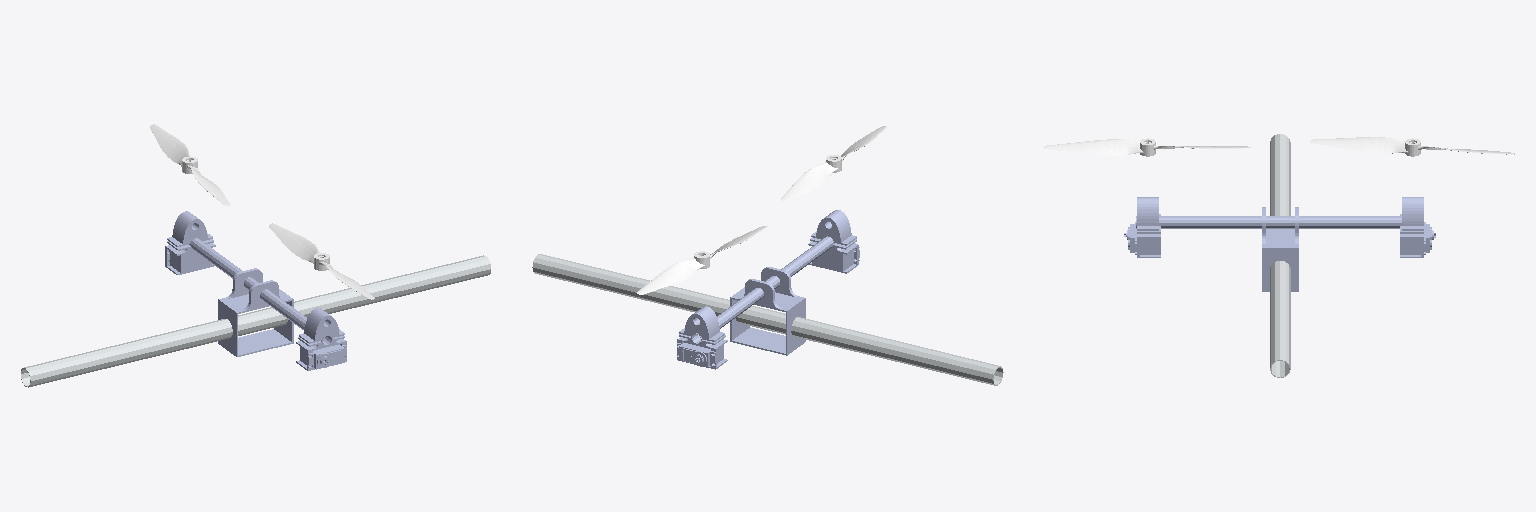
URDF robot description (link assem 1):
<?xml version="1.0" encoding="utf-8"?>
<!--
================================================================================
SOLIDWORKS CAD EXPORT REFERENCE (link assem 1.urdf)
================================================================================
Note: This file is the raw SolidWorks export reference from the CAD team.
The active URDF used by ROS 2, robot_state_publisher, and RViz2 is `bi_copter.urdf`.
================================================================================
-->
<!-- This URDF was automatically created by SolidWorks to URDF Exporter! Originally created by Stephen Brawner (brawner@gmail.com) 
     Commit Version: 1.6.0-1-g15f4949  Build Version: 1.6.7594.29634
     For more information, please see http://wiki.ros.org/sw_urdf_exporter -->
<robot
  name="link assem 1">
  <link
    name="base_link">
    <inertial>
      <origin
        xyz="-2.76532267727628E-16 0 3.51038494709688E-19"
        rpy="0 0 0" />
      <mass
        value="0.132323882569202" />
      <inertia
        ixx="1.90877200606074E-05"
        ixy="-1.24875867876986E-35"
        ixz="-1.91928080718625E-35"
        iyy="0.00466844722548764"
        iyz="-1.84140864182871E-37"
        izz="0.00466844722548764" />
    </inertial>
    <visual>
      <origin
        xyz="0 0 0"
        rpy="0 0 0" />
      <geometry>
        <mesh
          filename="package://link assem 1/meshes/base_link.STL" />
      </geometry>
      <material
        name="">
        <color
          rgba="0.898039215686275 0.917647058823529 0.929411764705882 1" />
      </material>
    </visual>
    <collision>
      <origin
        xyz="0 0 0"
        rpy="0 0 0" />
      <geometry>
        <mesh
          filename="package://link assem 1/meshes/base_link.STL" />
      </geometry>
    </collision>
  </link>
  <link
    name="L1">
    <inertial>
      <origin
        xyz="0.0187826477090622 0.0646496990402858 0.0655243998826831"
        rpy="0 0 0" />
      <mass
        value="0.177641248758178" />
      <inertia
        ixx="0.000214711885739995"
        ixy="2.49321510093631E-20"
        ixz="-1.2333489977151E-12"
        iyy="0.000218978934528565"
        iyz="-2.85669278486103E-10"
        izz="8.14312338807093E-05" />
    </inertial>
    <visual>
      <origin
        xyz="0 0 0"
        rpy="0 0 0" />
      <geometry>
        <mesh
          filename="package://link assem 1/meshes/L1.STL" />
      </geometry>
      <material
        name="">
        <color
          rgba="0.792156862745098 0.819607843137255 0.933333333333333 1" />
      </material>
    </visual>
    <collision>
      <origin
        xyz="0 0 0"
        rpy="0 0 0" />
      <geometry>
        <mesh
          filename="package://link assem 1/meshes/L1.STL" />
      </geometry>
    </collision>
  </link>
  <joint
    name="J1"
    type="continuous">
    <origin
      xyz="-0.0188267545319353 0.0657121173114694 -0.0323300324222666"
      rpy="1.5707963267949 0 0" />
    <parent
      link="base_link" />
    <child
      link="L1" />
    <axis
      xyz="0 0 1" />
  </joint>
  <link
    name="L2">
    <inertial>
      <origin
        xyz="0.000639451801211969 0.0419854704930056 0.0202856147814962"
        rpy="0 0 0" />
      <mass
        value="0.0756917660219552" />
      <inertia
        ixx="1.36003088872351E-05"
        ixy="-3.48905222525505E-07"
        ixz="-6.71026377493094E-07"
        iyy="1.61394826592292E-05"
        iyz="-1.5868331703718E-07"
        izz="1.35431982502197E-05" />
    </inertial>
    <visual>
      <origin
        xyz="0 0 0"
        rpy="0 0 0" />
      <geometry>
        <mesh
          filename="package://link assem 1/meshes/L2.STL" />
      </geometry>
      <material
        name="">
        <color
          rgba="0.752941176470588 0.752941176470588 0.752941176470588 1" />
      </material>
    </visual>
    <collision>
      <origin
        xyz="0 0 0"
        rpy="0 0 0" />
      <geometry>
        <mesh
          filename="package://link assem 1/meshes/L2.STL" />
      </geometry>
    </collision>
  </link>
  <joint
    name="J2"
    type="continuous">
    <origin
      xyz="0.0188409419721205 0.100330032422266 -0.0752878826885309"
      rpy="3.14159265358979 0 3.14159265358979" />
    <parent
      link="L1" />
    <child
      link="L2" />
    <axis
      xyz="0 0 1" />
  </joint>
  <link
    name="L4">
    <inertial>
      <origin
        xyz="-4.92945649577248E-09 0.00805127046574106 7.94391442487941E-07"
        rpy="0 0 0" />
      <mass
        value="0.00976049064649461" />
      <inertia
        ixx="2.07958518710737E-05"
        ixy="-1.03366210906173E-13"
        ixz="4.37809832878648E-07"
        iyy="2.09573775881637E-05"
        iyz="6.12944090859765E-12"
        izz="3.65170355995074E-07" />
    </inertial>
    <visual>
      <origin
        xyz="0 0 0"
        rpy="0 0 0" />
      <geometry>
        <mesh
          filename="package://link assem 1/meshes/L4.STL" />
      </geometry>
      <material
        name="">
        <color
          rgba="1 1 1 1" />
      </material>
    </visual>
    <collision>
      <origin
        xyz="0 0 0"
        rpy="0 0 0" />
      <geometry>
        <mesh
          filename="package://link assem 1/meshes/L4.STL" />
      </geometry>
    </collision>
  </link>
  <joint
    name="J4"
    type="continuous">
    <origin
      xyz="0 0.0698434677431831 0.0200004851942814"
      rpy="3.14159265358979 0.144407292596093 3.14159265358979" />
    <parent
      link="L2" />
    <child
      link="L4" />
    <axis
      xyz="0 1 0" />
  </joint>
  <link
    name="L3">
    <inertial>
      <origin
        xyz="0.000642058132076519 0.0419833660785355 0.0197082906269082"
        rpy="0 0 0" />
      <mass
        value="0.0757054374645909" />
      <inertia
        ixx="1.3602712306349E-05"
        ixy="-3.49944732585982E-07"
        ixz="6.81764898257614E-07"
        iyy="1.61425065106366E-05"
        iyz="1.62483769950288E-07"
        izz="1.35454251706912E-05" />
    </inertial>
    <visual>
      <origin
        xyz="0 0 0"
        rpy="0 0 0" />
      <geometry>
        <mesh
          filename="package://link assem 1/meshes/L3.STL" />
      </geometry>
      <material
        name="">
        <color
          rgba="0.752941176470588 0.752941176470588 0.752941176470588 1" />
      </material>
    </visual>
    <collision>
      <origin
        xyz="0 0 0"
        rpy="0 0 0" />
      <geometry>
        <mesh
          filename="package://link assem 1/meshes/L3.STL" />
      </geometry>
    </collision>
  </link>
  <joint
    name="J3"
    type="continuous">
    <origin
      xyz="0.0188125670917499 0.100330032422266 0.246712117311469"
      rpy="3.14159265358979 0 -3.14159265358979" />
    <parent
      link="L1" />
    <child
      link="L3" />
    <axis
      xyz="0 0 1" />
  </joint>
  <link
    name="L5">
    <inertial>
      <origin
        xyz="-3.23416066990868E-09 0.00805127359033739 7.11040406775609E-07"
        rpy="0 0 0" />
      <mass
        value="0.0097605620215964" />
      <inertia
        ixx="2.07964259886499E-05"
        ixy="-5.29046290229536E-14"
        ixz="4.37840467773984E-07"
        iyy="2.09579539745188E-05"
        iyz="5.87368710498402E-12"
        izz="3.65172671551217E-07" />
    </inertial>
    <visual>
      <origin
        xyz="0 0 0"
        rpy="0 0 0" />
      <geometry>
        <mesh
          filename="package://link assem 1/meshes/L5.STL" />
      </geometry>
      <material
        name="">
        <color
          rgba="1 1 1 1" />
      </material>
    </visual>
    <collision>
      <origin
        xyz="0 0 0"
        rpy="0 0 0" />
      <geometry>
        <mesh
          filename="package://link assem 1/meshes/L5.STL" />
      </geometry>
    </collision>
  </link>
  <joint
    name="J5"
    type="continuous">
    <origin
      xyz="0 0.069843467743183 0.0200004851942814"
      rpy="3.14159265358979 0 -3.14159265358979" />
    <parent
      link="L3" />
    <child
      link="L5" />
    <axis
      xyz="0 1 0" />
  </joint>
</robot>

--- What the picture shows (computed from the rendered views, not written in the file) ---
3 views of the same robot in one strip: view 1: azimuth 30°, elevation 25°; view 2: azimuth 150°, elevation 25°; view 3: azimuth 270°, elevation 25° (orthographic).
Robot: link assem 1 — 6 links, 5 joints (5 continuous); root link base_link; default pose: all joints at 0.
Links seen in each view (by area): view 1: base_link, L1, L5, L4; view 2: L1, base_link, L4, L5; view 3: L1, base_link, L5, L4.
Boxes of the visible links, x1,y1,x2,y2 form: base_link: [21, 255, 490, 387]; L1: [165, 211, 346, 370]; L5: [269, 223, 374, 299]; L4: [150, 124, 229, 205]; L1: [677, 210, 859, 369]; base_link: [532, 254, 1003, 385]; L4: [637, 226, 767, 294]; L5: [781, 126, 886, 201]; L1: [1124, 197, 1435, 291]; base_link: [1270, 134, 1290, 377]; L5: [1044, 138, 1250, 156]; L4: [1310, 137, 1514, 156].
Size in the robot's own frame: 0.65 by 0.5721 by 0.1828 metres.
4 mesh visuals loaded from 6 distinct referenced files (4 binary STL); not drawn: 2 (reference not matched to a file when rendering).
